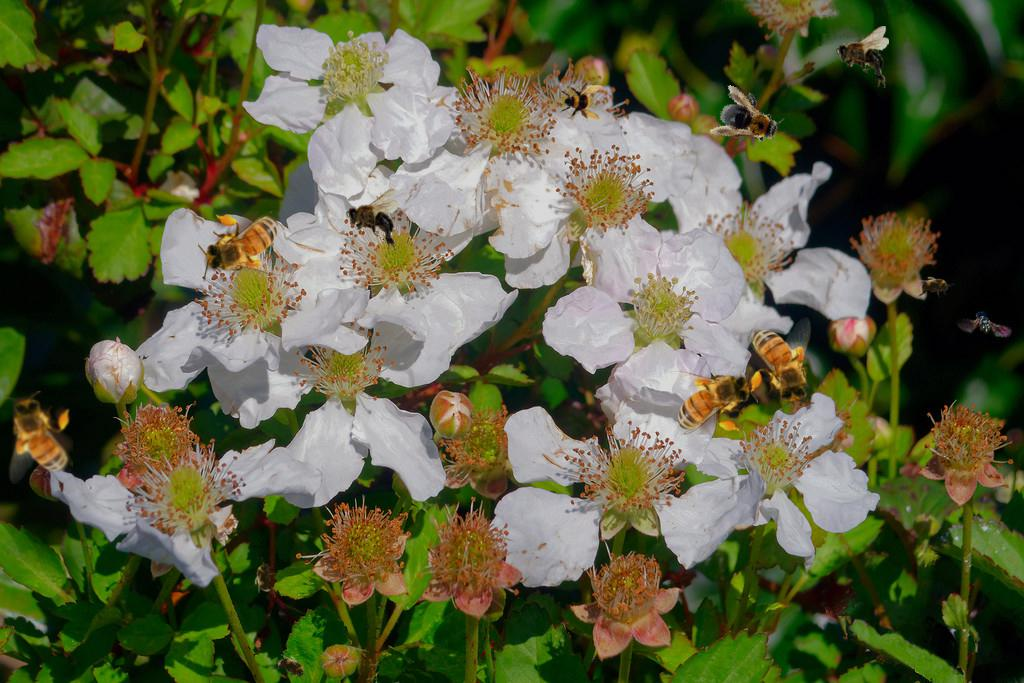Bee: (198, 211, 291, 279), (665, 367, 758, 435), (5, 391, 73, 484), (747, 317, 815, 410), (709, 83, 791, 157), (346, 189, 399, 251), (836, 26, 889, 88), (559, 78, 603, 122), (269, 648, 315, 683), (254, 557, 276, 597), (915, 276, 955, 298)
